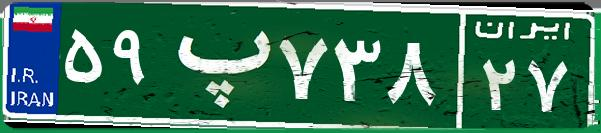2: (475, 38, 525, 113)
3: (330, 28, 385, 110)
5: (57, 26, 110, 107)
7: (273, 28, 330, 110), (525, 38, 570, 115)
8: (385, 28, 445, 110)
9: (110, 28, 158, 105)
پ: (158, 15, 273, 115)
